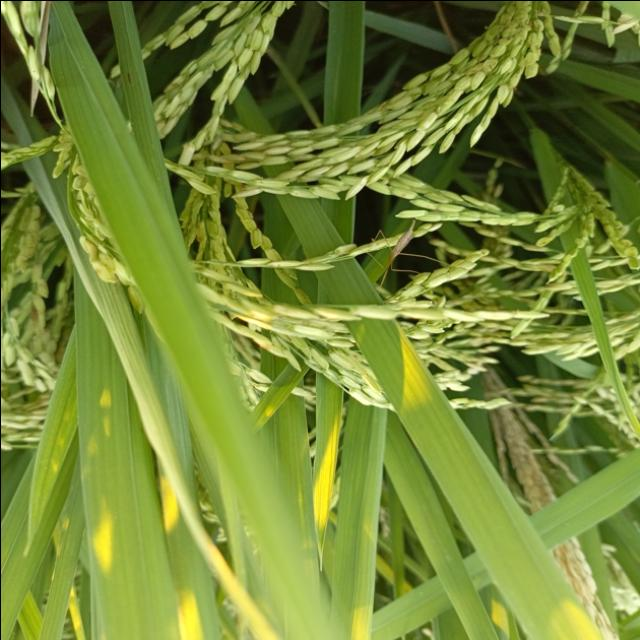Walang Sangit: (358, 210, 461, 301)
